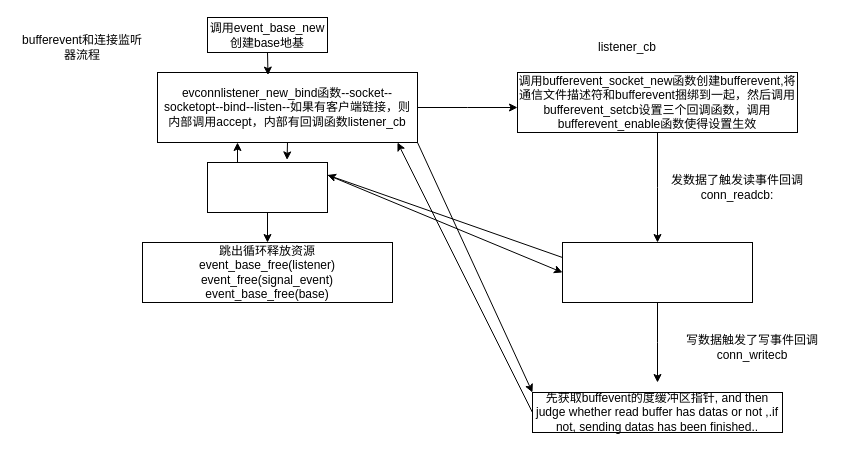
The diagram is 844 pixels wide and 451 high, and some of its shapes have lost their labels. The shapes that lost their labels are listed below. From the top down, each one's box as (x1, y1, x2, y2) in pixels, then its label:
(206, 162, 328, 212): 等待事件发生，调用event_dispactch进入循环
(562, 242, 752, 302): 读bufferevent的读缓冲区，读完之后写应答数据到bufferevent的写缓冲区，此时触发写事件回调
